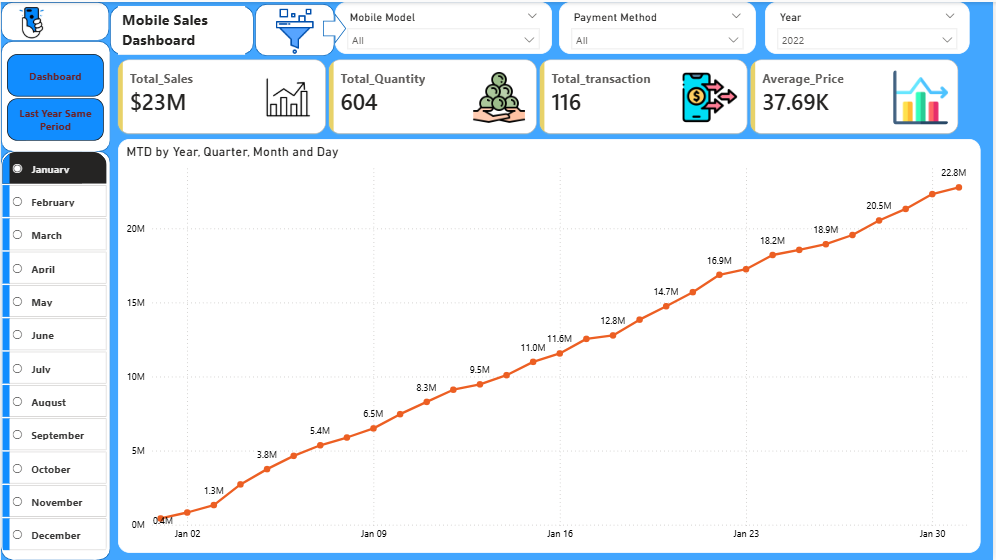

What the dashboard file says about the page in this screenshot:
{"tool":"powerbi","page":{"name":"MTD Report","canvas":[1280,720],"ordinal":1},"visuals":[{"type":"shape","box":[0,0,139.8,49.9],"z":0},{"type":"cardVisual","fields":{"Data":["Sales_data.Total_Sales","Sales_data.Total_Quantity","Sales_data.Total_transaction","Sales_data.Average_Price"]},"box":[124.7,66.6,1139.5,110.6],"z":1000},{"type":"image","box":[0,0,79.9,57.1],"z":2000},{"type":"shape","box":[0,50.1,141.2,143],"z":3000},{"type":"slicer","fields":{"Values":["Sales_data.Mobile Model"]},"box":[430.9,0,279.7,67.1],"z":4000},{"type":"slicer","fields":{"Values":["Sales_data.Payment Method"]},"box":[720.6,0,254,67.1],"z":5000},{"type":"slicer","fields":{"Values":["Custom_Calendar.Date.Variation.Date Hierarchy.Year"]},"box":[986,0,264,67.1],"z":6000},{"type":"shape","box":[328.2,2.9,102.7,67.1],"z":7000},{"type":"shape","box":[415.3,14.3,30,40],"z":8000},{"type":"image","box":[329.6,7.1,99.9,59.9],"z":9000},{"type":"shape","box":[141.3,5.7,185.5,62.8],"z":10000},{"type":"textbox","box":[151.3,5.7,164.1,62.8],"z":11000},{"type":"shape","box":[0,192.6,141.3,528],"z":12000},{"type":"lineChart","fields":{"Y":["Sales_data.MTD"],"Category":["Custom_Calendar.Date.Variation.Date Hierarchy.Year","Custom_Calendar.Date.Variation.Date Hierarchy.Quarter","Custom_Calendar.Date.Variation.Date Hierarchy.Month","Custom_Calendar.Date.Variation.Date Hierarchy.Day"]},"box":[151.3,176.9,1113,533.7],"z":13000},{"type":"advancedSlicerVisual","fields":{"Values":["Custom_Calendar.Date.Variation.Date Hierarchy.Month"]},"box":[0,192,138.4,528],"z":14000},{"type":"pageNavigator","box":[7.7,67.1,125.2,113.5],"z":15000}]}

Visuals, with their boxes in screenshot pixels (x1, y1, x2, y2), scaled from the page's 1280x720 canvas onto the 996x560 screenshot:
shape: 0, 0, 109, 39
cardVisual - Sales_data.Total_Sales x Sales_data.Total_Quantity: 97, 52, 984, 138
image: 0, 0, 62, 44
shape: 0, 39, 110, 150
slicer - Sales_data.Mobile Model: 335, 0, 553, 52
slicer - Sales_data.Payment Method: 561, 0, 758, 52
slicer - Custom_Calendar.Date.Variation.Date Hierarchy.Year: 767, 0, 973, 52
shape: 255, 2, 335, 54
shape: 323, 11, 346, 42
image: 256, 6, 334, 52
shape: 110, 4, 254, 53
textbox: 118, 4, 245, 53
shape: 0, 150, 110, 559
lineChart - Sales_data.MTD x Custom_Calendar.Date.Variation.Date Hierarchy.Year: 118, 138, 984, 553
advancedSlicerVisual - Custom_Calendar.Date.Variation.Date Hierarchy.Month: 0, 149, 108, 559
pageNavigator: 6, 52, 103, 140
